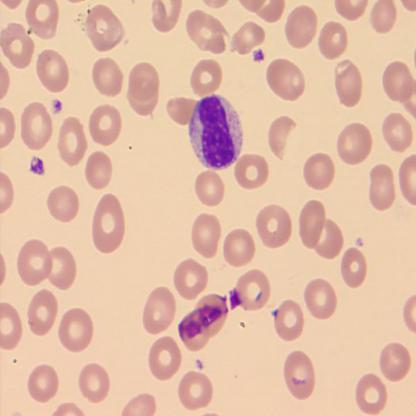Metamyelocyte: (186, 90, 246, 172)
